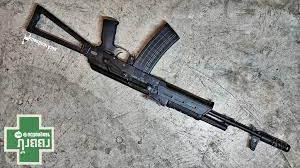larga: (26, 4, 291, 152)
